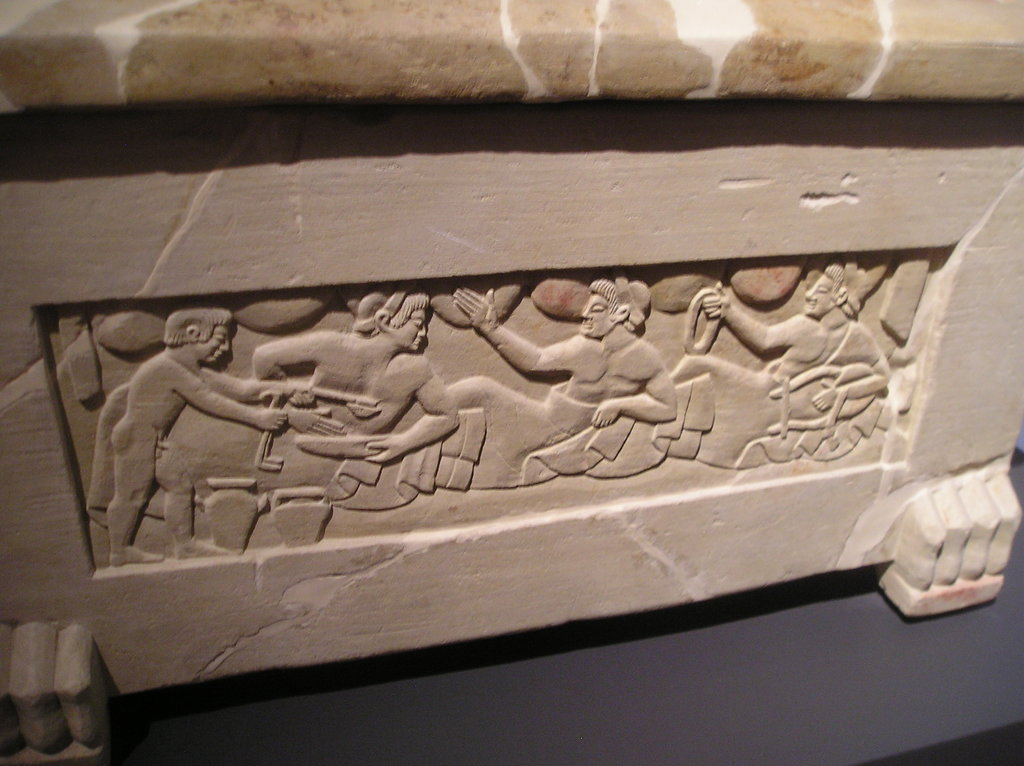Human_hand: (3, 603, 112, 757), (453, 287, 497, 328), (288, 407, 349, 436), (702, 280, 734, 324), (589, 399, 626, 431), (362, 441, 404, 469), (810, 378, 840, 412), (284, 379, 318, 404), (259, 408, 288, 435)
